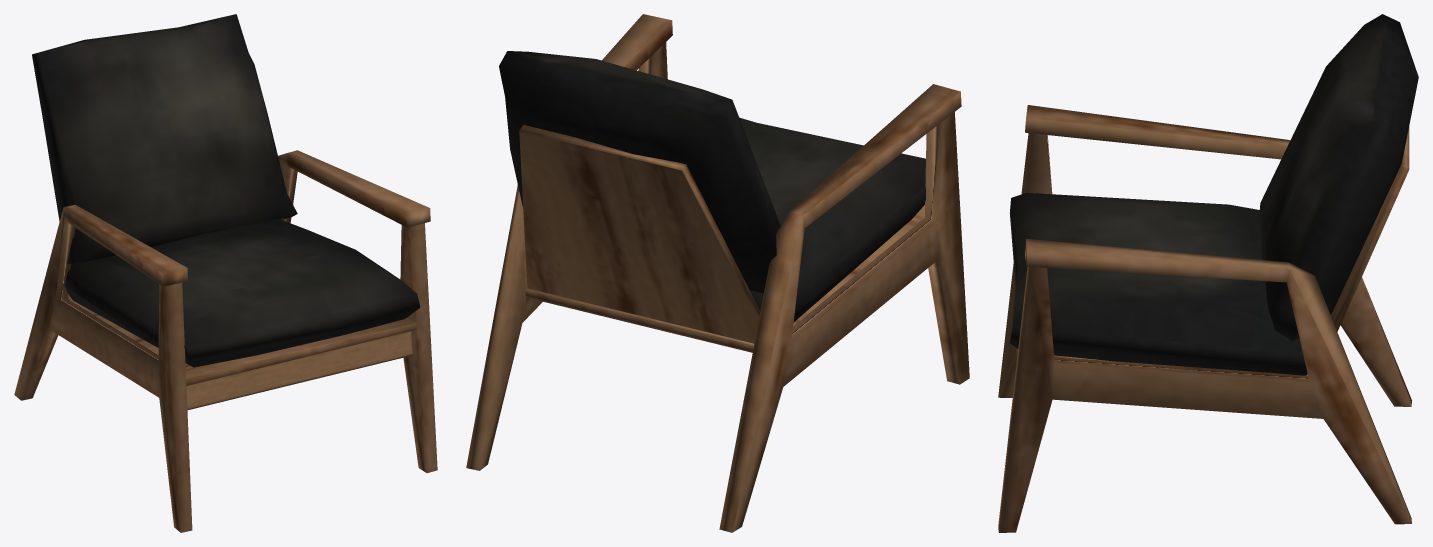
The model's file is modern_arm_chair_01.glb.
3 renders of one model, left to right at view 1: azimuth 30°, elevation 25°; view 2: azimuth 150°, elevation 25°; view 3: azimuth 270°, elevation 25°, orthographic. The views are drawn at different scales.
Parts seen in each view (by area): view 1: modern_arm_chair_01; view 2: modern_arm_chair_01; view 3: modern_arm_chair_01.
Boxes of the visible parts, x1,y1,x2,y2 form: modern_arm_chair_01: (14,14,437,532); modern_arm_chair_01: (466,14,969,532); modern_arm_chair_01: (998,14,1418,532).
Bounding box in the file's own units: 0.8166 × 1.02 × 0.9863.
2 materials, 2 textured.
